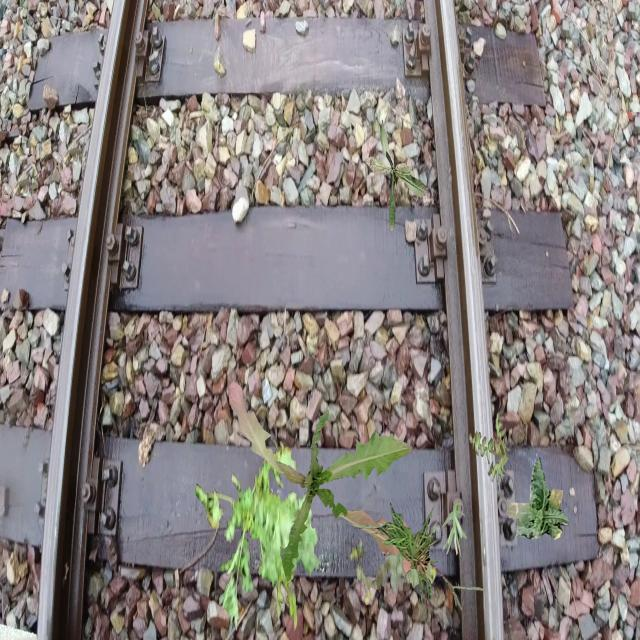Plant: (228, 381, 420, 584), (195, 438, 320, 634), (342, 502, 486, 622), (365, 119, 429, 231), (350, 537, 437, 606), (506, 457, 570, 540), (468, 411, 510, 482), (441, 501, 468, 558)
